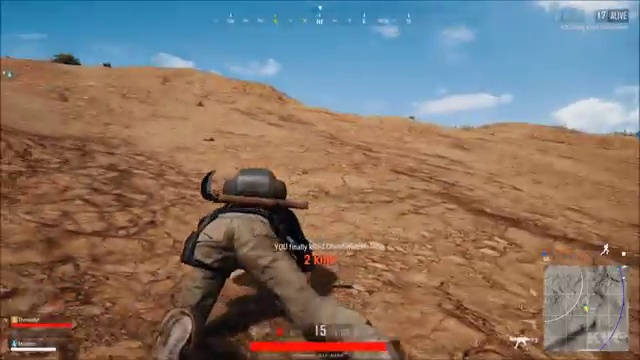Player: (136, 159, 360, 293)
